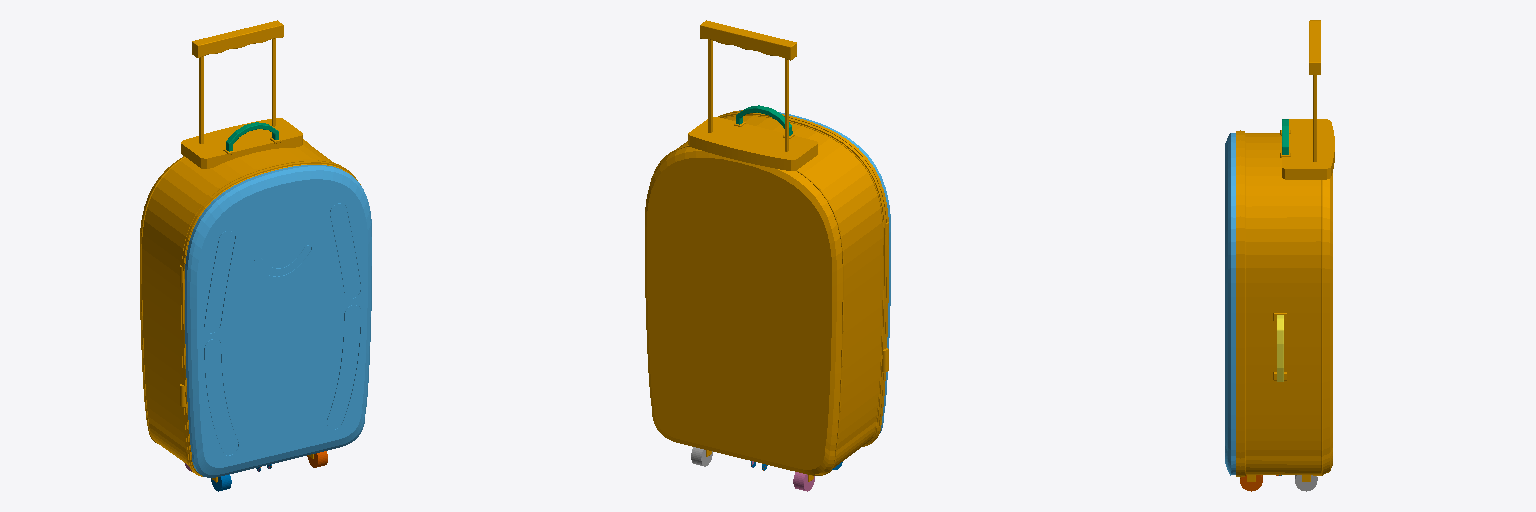
robot.urdf — 100842:
<?xml version='1.0' encoding='utf-8'?>
<robot name="100842">
  <link name="fixed_root">
    <visual name="fixed_root_visual">
      <origin xyz="0 0 0" rpy="0 0 0" />
      <geometry>
        <mesh filename="meshes/fixed_root.obj" />
      </geometry>
    </visual>
  </link>
  <link name="link_front_lid_hinge">
    <visual name="link_front_lid_hinge_visual">
      <origin xyz="0 0 0" rpy="0 0 0" />
      <geometry>
        <mesh filename="meshes/link_front_lid_hinge.obj" />
      </geometry>
    </visual>
  </link>
  <link name="link_top_carry_handle_fold">
    <visual name="link_top_carry_handle_fold_visual">
      <origin xyz="0 0 0" rpy="0 0 0" />
      <geometry>
        <mesh filename="meshes/link_top_carry_handle_fold.obj" />
      </geometry>
    </visual>
  </link>
  <link name="link_side_carry_handle_fold">
    <visual name="link_side_carry_handle_fold_visual">
      <origin xyz="0 0 0" rpy="0 0 0" />
      <geometry>
        <mesh filename="meshes/link_side_carry_handle_fold.obj" />
      </geometry>
    </visual>
  </link>
  <link name="link_wheel_front_left_roll">
    <visual name="link_wheel_front_left_roll_visual">
      <origin xyz="0 0 0" rpy="0 0 0" />
      <geometry>
        <mesh filename="meshes/link_wheel_front_left_roll.obj" />
      </geometry>
    </visual>
  </link>
  <link name="link_wheel_front_right_roll">
    <visual name="link_wheel_front_right_roll_visual">
      <origin xyz="0 0 0" rpy="0 0 0" />
      <geometry>
        <mesh filename="meshes/link_wheel_front_right_roll.obj" />
      </geometry>
    </visual>
  </link>
  <link name="link_wheel_rear_left_roll">
    <visual name="link_wheel_rear_left_roll_visual">
      <origin xyz="0 0 0" rpy="0 0 0" />
      <geometry>
        <mesh filename="meshes/link_wheel_rear_left_roll.obj" />
      </geometry>
    </visual>
  </link>
  <link name="link_wheel_rear_right_roll">
    <visual name="link_wheel_rear_right_roll_visual">
      <origin xyz="0 0 0" rpy="0 0 0" />
      <geometry>
        <mesh filename="meshes/link_wheel_rear_right_roll.obj" />
      </geometry>
    </visual>
  </link>
  <link name="link_telescoping_handle_slide">
    <visual name="link_telescoping_handle_slide_visual">
      <origin xyz="0 0 0" rpy="0 0 0" />
      <geometry>
        <mesh filename="meshes/link_telescoping_handle_slide.obj" />
      </geometry>
    </visual>
  </link>
  <joint name="front_lid_hinge" type="revolute">
    <parent link="fixed_root" />
    <child link="link_front_lid_hinge" />
    <origin xyz="-0.246560007334 -0.0816499963403 0.40000000596" rpy="0 -0 0" />
    <axis xyz="0 0 1" />
    <limit lower="-0.785398163397" upper="0" effort="1" velocity="1" />
  </joint>
  <joint name="top_carry_handle_fold" type="revolute">
    <parent link="fixed_root" />
    <child link="link_top_carry_handle_fold" />
    <origin xyz="-0.0200100000948 0.0142139997333 0.757916808128" rpy="0 -0 0" />
    <axis xyz="1 -3.49626538818e-18 0" />
    <limit lower="-0.610865238198" upper="0.610865238198" effort="1" velocity="1" />
  </joint>
  <joint name="side_carry_handle_fold" type="revolute">
    <parent link="fixed_root" />
    <child link="link_side_carry_handle_fold" />
    <origin xyz="0.213440001011 0.00344999996014 0.387580007315" rpy="0 -0 0" />
    <axis xyz="0 0 1" />
    <limit lower="-0.610865238198" upper="0.610865238198" effort="1" velocity="1" />
  </joint>
  <joint name="wheel_front_left_roll" type="revolute">
    <parent link="fixed_root" />
    <child link="link_wheel_front_left_roll" />
    <origin xyz="-0.139610007405 -0.0586499981582 0.0240000002086" rpy="0 -0 0" />
    <axis xyz="1 -3.49626538818e-18 0" />
    <limit lower="-0.785398163397" upper="0.785398163397" effort="1" velocity="1" />
  </joint>
  <joint name="wheel_front_right_roll" type="revolute">
    <parent link="fixed_root" />
    <child link="link_wheel_front_right_roll" />
    <origin xyz="0.0995900034904 -0.0586499981582 0.0240000002086" rpy="0 -0 0" />
    <axis xyz="1 -3.49626538818e-18 0" />
    <limit lower="-0.785398163397" upper="0.785398163397" effort="1" velocity="1" />
  </joint>
  <joint name="wheel_rear_left_roll" type="revolute">
    <parent link="fixed_root" />
    <child link="link_wheel_rear_left_roll" />
    <origin xyz="-0.139610007405 0.0586499981582 0.0240000002086" rpy="0 -0 0" />
    <axis xyz="1 -3.49626538818e-18 0" />
    <limit lower="-0.785398163397" upper="0.785398163397" effort="1" velocity="1" />
  </joint>
  <joint name="wheel_rear_right_roll" type="revolute">
    <parent link="fixed_root" />
    <child link="link_wheel_rear_right_roll" />
    <origin xyz="0.0995900034904 0.0586499981582 0.0240000002086" rpy="0 -0 0" />
    <axis xyz="1 -3.49626538818e-18 0" />
    <limit lower="-0.785398163397" upper="0.785398163397" effort="1" velocity="1" />
  </joint>
  <joint name="telescoping_handle_slide" type="prismatic">
    <parent link="fixed_root" />
    <child link="link_telescoping_handle_slide" />
    <origin xyz="-0.0200100000948 0.0776939988136 0.757916808128" rpy="0 -0 0" />
    <axis xyz="0 0 1" />
    <limit lower="-0.0403009283002" upper="0" effort="1" velocity="1" />
  </joint>
</robot>

--- Facts derived from the render (not from the file) ---
Views: 3 orthographic renders of the robot side by side, from view 1: azimuth 30°, elevation 25°; view 2: azimuth 150°, elevation 25°; view 3: azimuth 270°, elevation 25°.
Robot: 100842 — 9 links, 8 joints (7 revolute, 1 prismatic); root link fixed_root; default pose: all joints at 0.
Visible links, largest first — view 1: link_front_lid_hinge, fixed_root, link_telescoping_handle_slide; view 2: fixed_root, link_telescoping_handle_slide, link_front_lid_hinge; view 3: fixed_root, link_front_lid_hinge, link_telescoping_handle_slide.
Link boxes in pixels (x1,y1,x2,y2): link_front_lid_hinge: [185, 165, 371, 477]; fixed_root: [140, 118, 360, 482]; link_telescoping_handle_slide: [192, 20, 283, 143]; fixed_root: [645, 110, 888, 481]; link_telescoping_handle_slide: [700, 20, 796, 151]; link_front_lid_hinge: [739, 110, 890, 432]; fixed_root: [1236, 119, 1334, 481]; link_front_lid_hinge: [1225, 133, 1235, 475]; link_telescoping_handle_slide: [1309, 20, 1320, 161].
Bounding box of the posed robot: 0.5131 × 0.235 × 1.01 m (x, y, z).
Meshes: 9 distinct files referenced, 9 mesh visuals loaded (9 OBJ).
